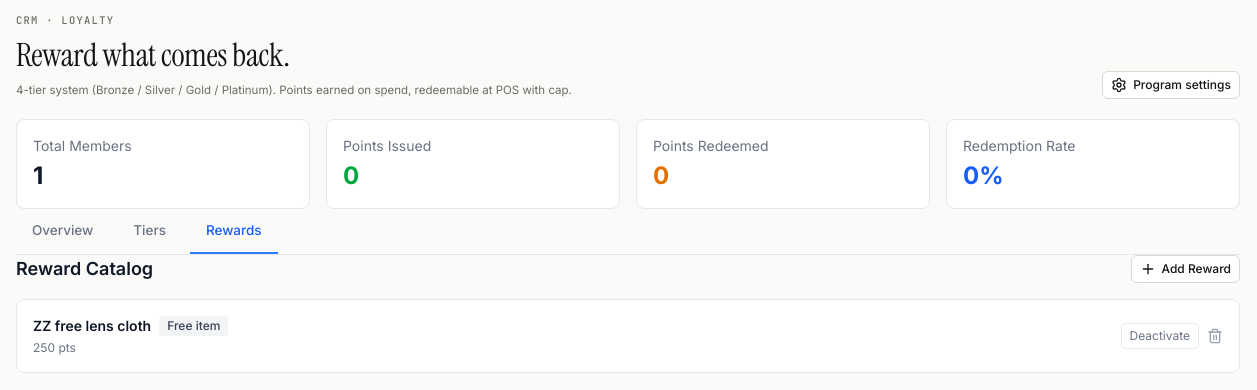
Scenario: toggle active › deactivates and shows the server row
The image size is (1257, 390).
Check: the text "ZZ free lens cloth" is shown, box x1=33 y1=316 x2=151 y2=336
Step 1. Click the button "Deactivate" → (1160, 336), box x1=1121 y1=323 x2=1199 y2=349
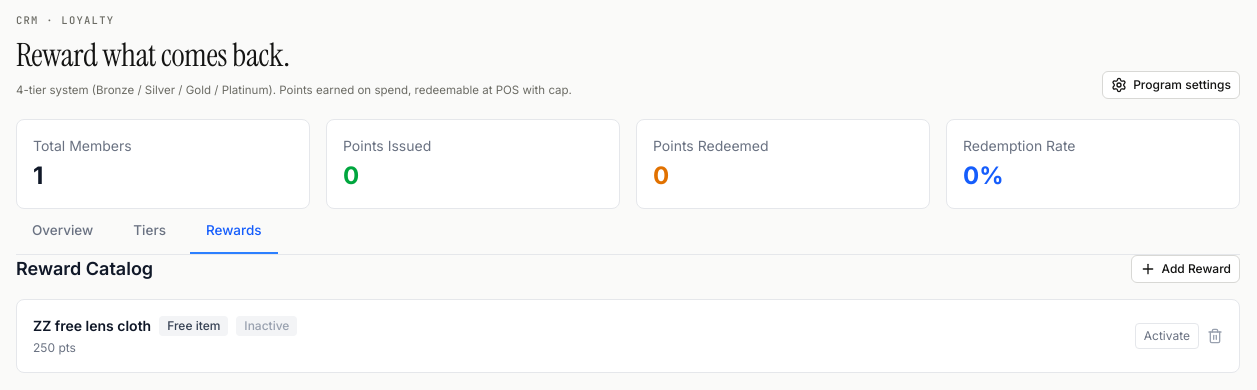
Check: the button "Activate" is shown, box x1=1135 y1=323 x2=1199 y2=349
Check: the text "Inactive" is shown, box x1=236 y1=316 x2=298 y2=336
